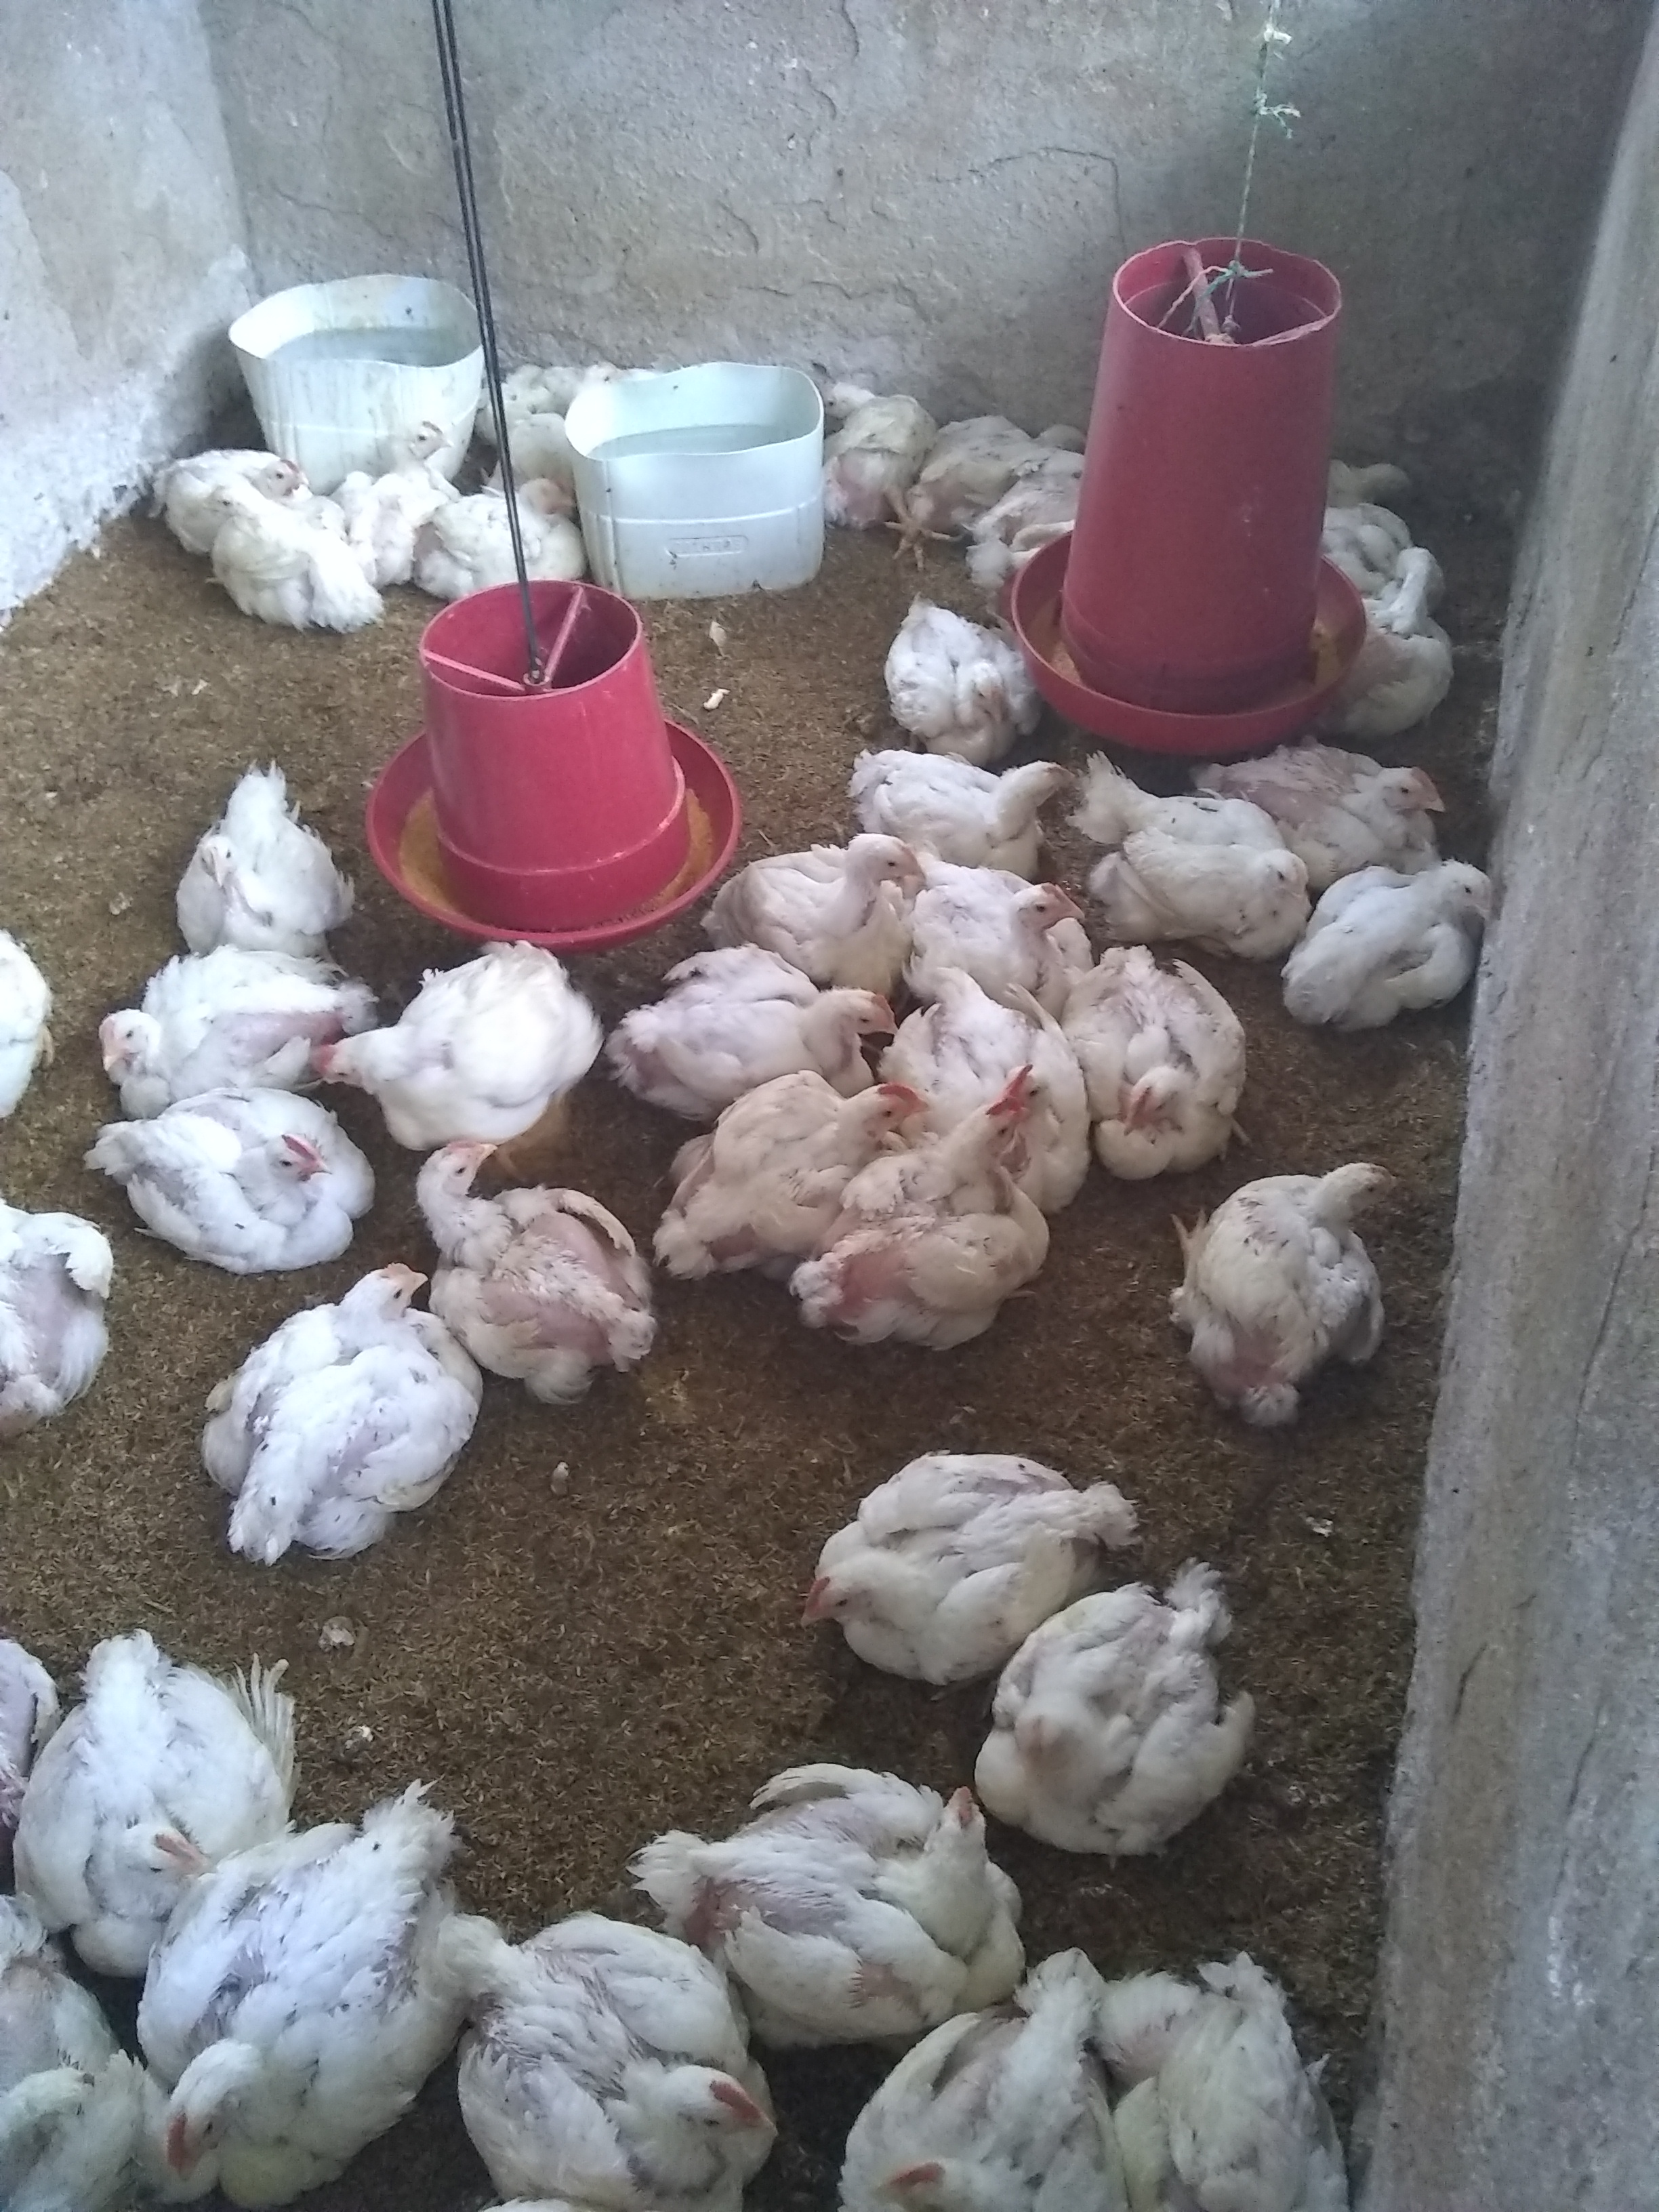Pollos: (455, 1916, 782, 2205), (153, 1918, 481, 2200), (683, 1775, 1028, 2024), (779, 1442, 1143, 1670), (214, 1263, 469, 1550), (1107, 1954, 1384, 2212), (42, 1670, 310, 1935), (399, 1125, 653, 1397), (843, 1980, 1141, 2212), (986, 1566, 1237, 1832), (1175, 1155, 1408, 1425), (317, 941, 615, 1143), (108, 1090, 375, 1256), (101, 963, 361, 1109), (1093, 765, 1312, 935), (894, 1106, 1056, 1336), (1314, 848, 1516, 1028), (162, 773, 366, 944), (1091, 972, 1269, 1163), (655, 944, 880, 1078), (199, 475, 376, 639), (0, 1188, 112, 1447), (924, 852, 1098, 1010), (725, 1054, 903, 1209), (718, 827, 917, 949), (880, 596, 1042, 744), (1324, 592, 1490, 733), (866, 749, 1091, 850), (411, 474, 584, 604), (1290, 751, 1462, 864), (807, 373, 936, 517), (967, 1001, 1093, 1127), (0, 916, 63, 1125), (369, 423, 451, 498), (244, 441, 310, 514), (1023, 409, 1091, 465)
